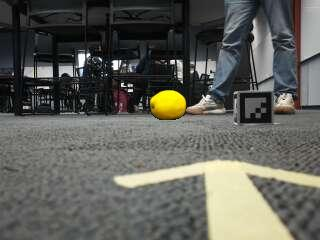lemon: (150, 90, 185, 119)
